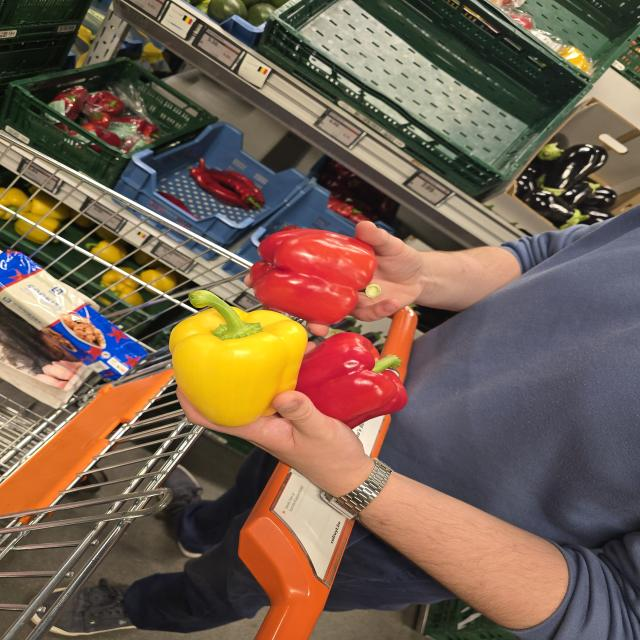Bell Pepper: (169, 290, 307, 427), (249, 228, 377, 325), (295, 332, 406, 428)
